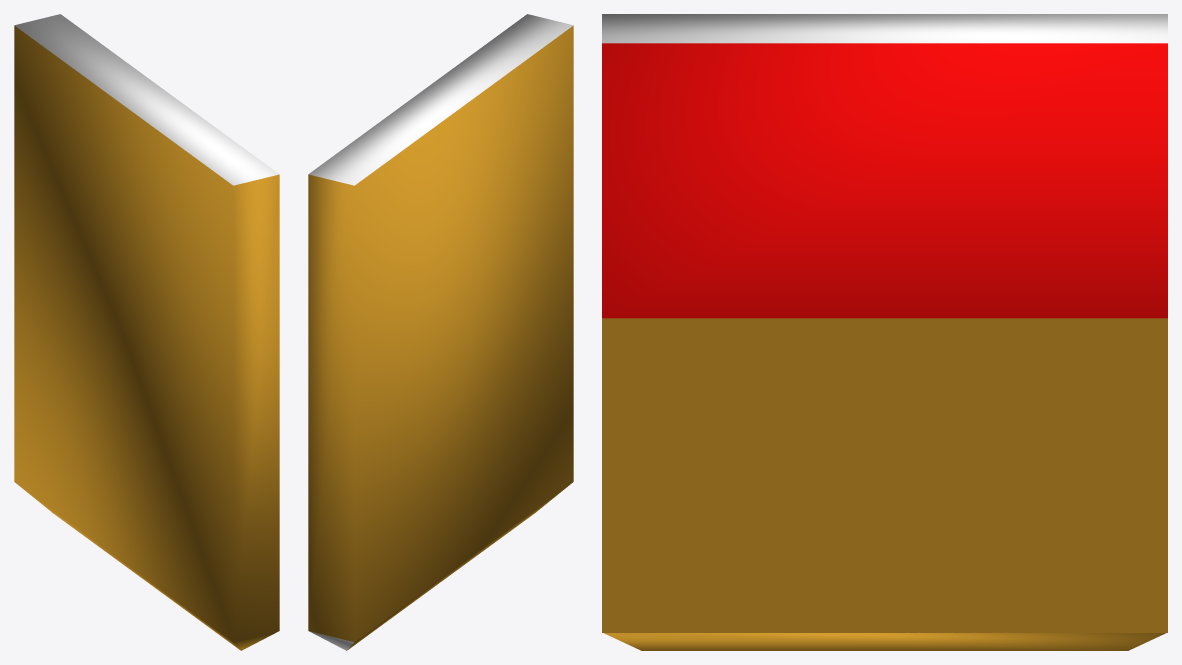
File: DoorCard.FBX
3 views of the same model, side by side, from view 1: azimuth 30°, elevation 25°; view 2: azimuth 150°, elevation 25°; view 3: azimuth 270°, elevation 25° (orthographic). The views are drawn at different scales.
Visible parts, largest first — view 1: cylinder44; view 2: cylinder44; view 3: cylinder44.
Boxes of the visible parts, x1,y1,x2,y2 form: cylinder44: (14,14,279,650); cylinder44: (308,14,573,650); cylinder44: (602,14,1167,650).
Size of the model in its own units: 0.325 by 3.23 by 2.66.
